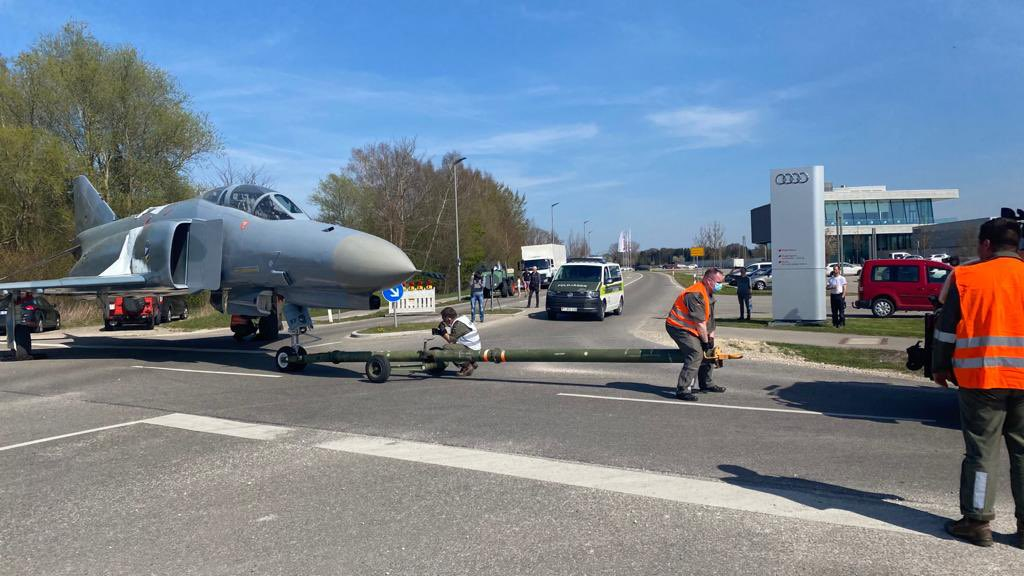F4: (1, 174, 446, 372)
